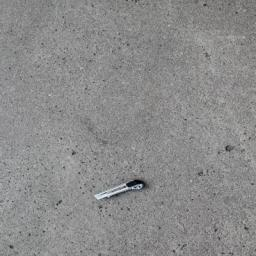FOD: (89, 178, 150, 204)
